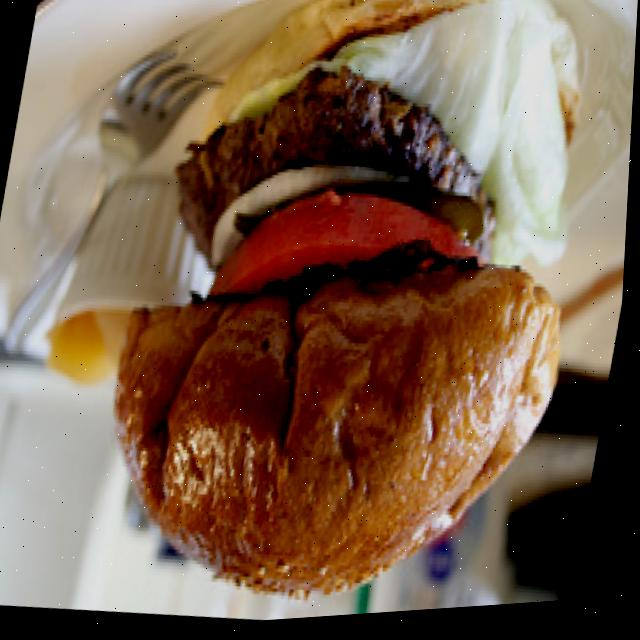汉堡快餐: (78, 0, 637, 635)
